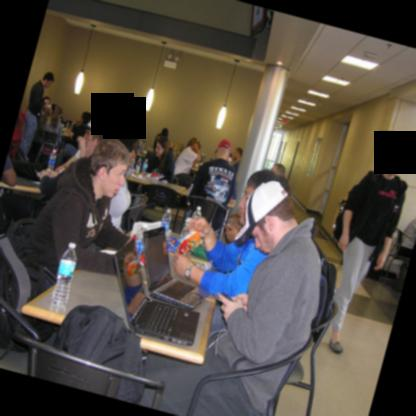backpack: (52, 300, 149, 405), (0, 218, 56, 364), (310, 242, 339, 329), (331, 184, 357, 239)
handbag: (13, 147, 40, 180)
